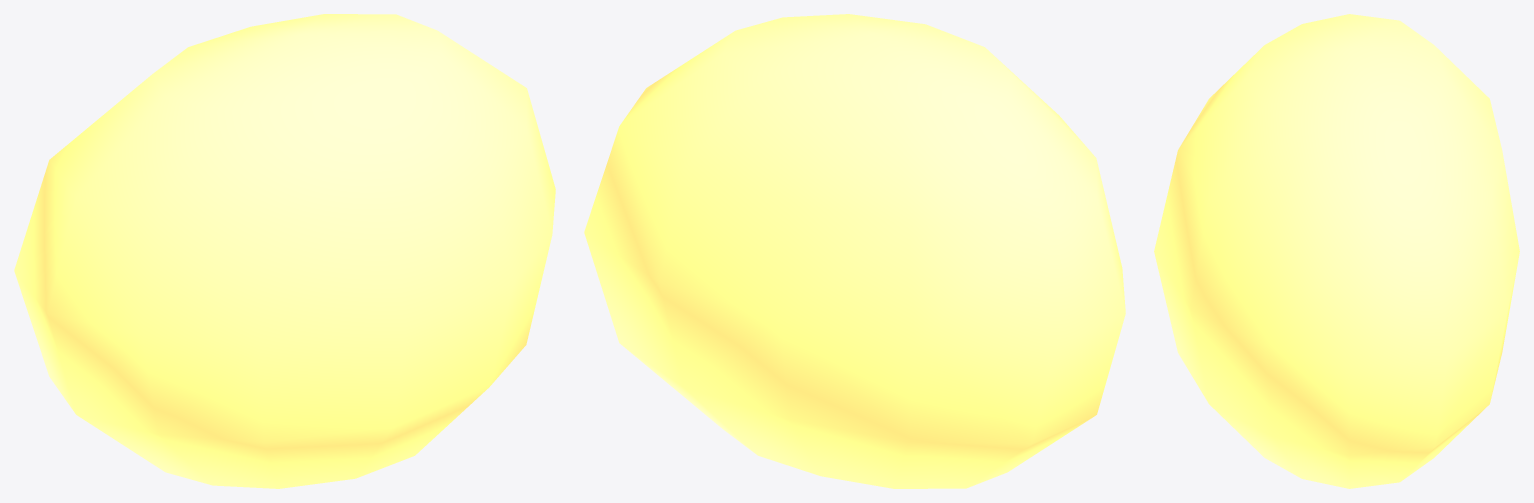
The model's file is fragment-cairn.glb.
3 renders of one model, left to right at view 1: azimuth 30°, elevation 25°; view 2: azimuth 150°, elevation 25°; view 3: azimuth 270°, elevation 25°, orthographic. The views are drawn at different scales.
Parts seen in each view (by area): view 1: default; view 2: default; view 3: default.
Boxes of the visible parts, x1=… form: default: x1=14, y1=14, x2=555, y2=488; default: x1=584, y1=14, x2=1125, y2=488; default: x1=1154, y1=14, x2=1519, y2=488.
Size of the model in its own units: 0.18 by 0.1466 by 0.12.
